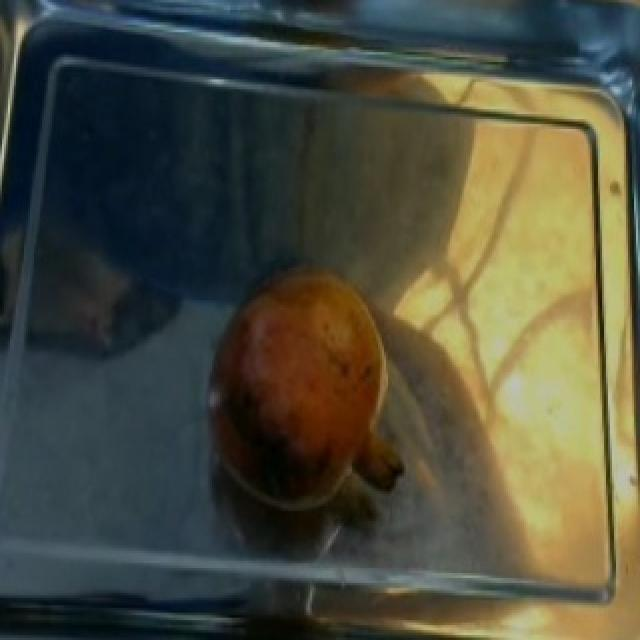fruit: (196, 248, 404, 526)
